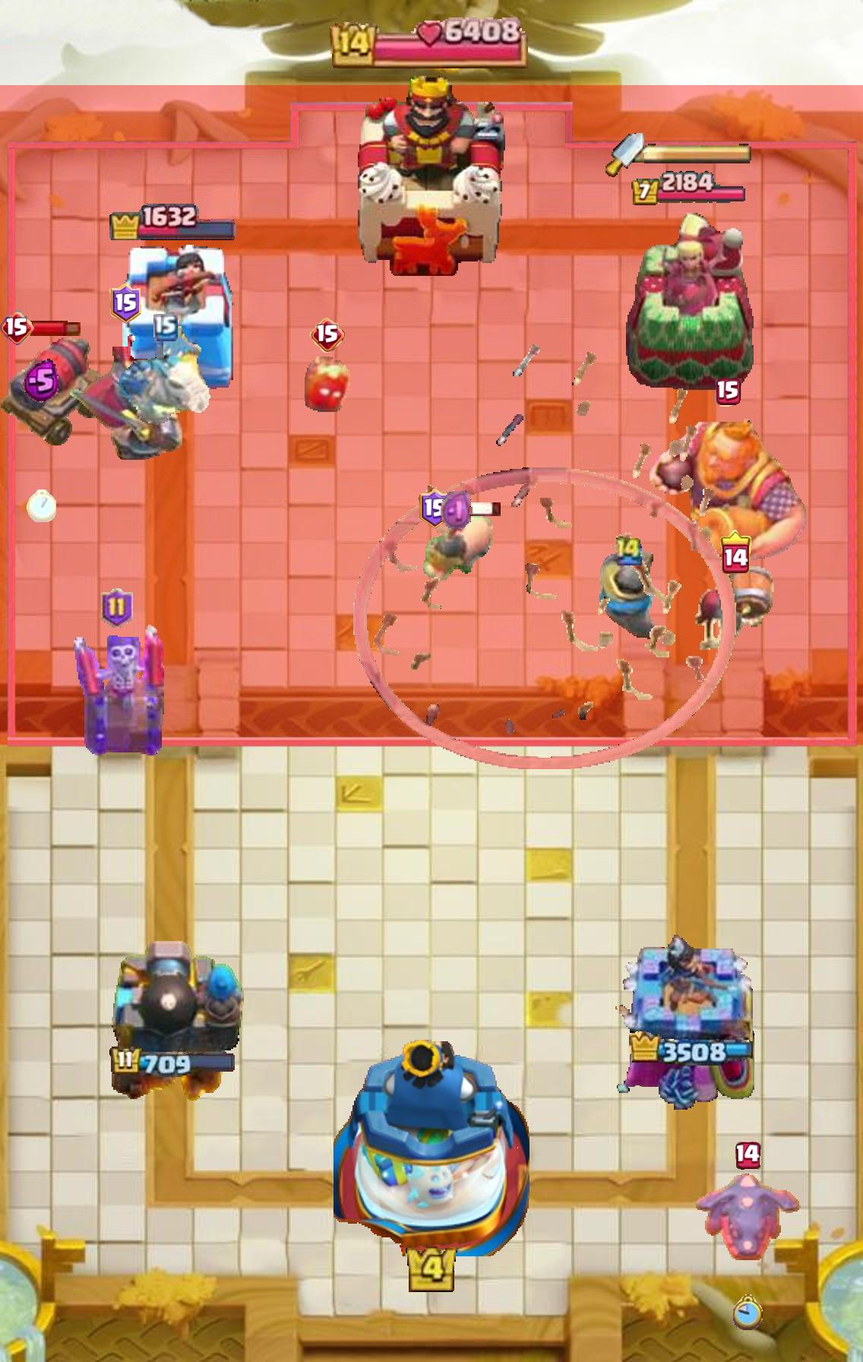bar: (27, 318, 81, 337), (447, 500, 503, 517)
bar-level: (720, 530, 751, 574), (418, 489, 451, 528), (109, 284, 141, 324), (101, 588, 133, 628), (0, 310, 35, 345), (310, 318, 345, 353), (714, 378, 741, 407), (735, 1141, 761, 1169)
